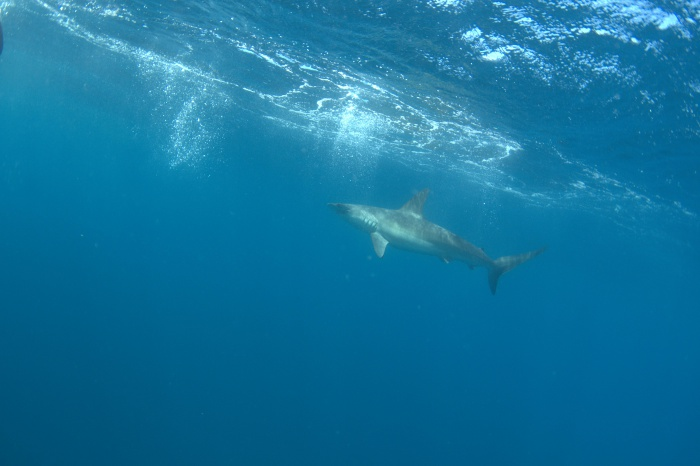Hammer: (320, 181, 567, 328)
